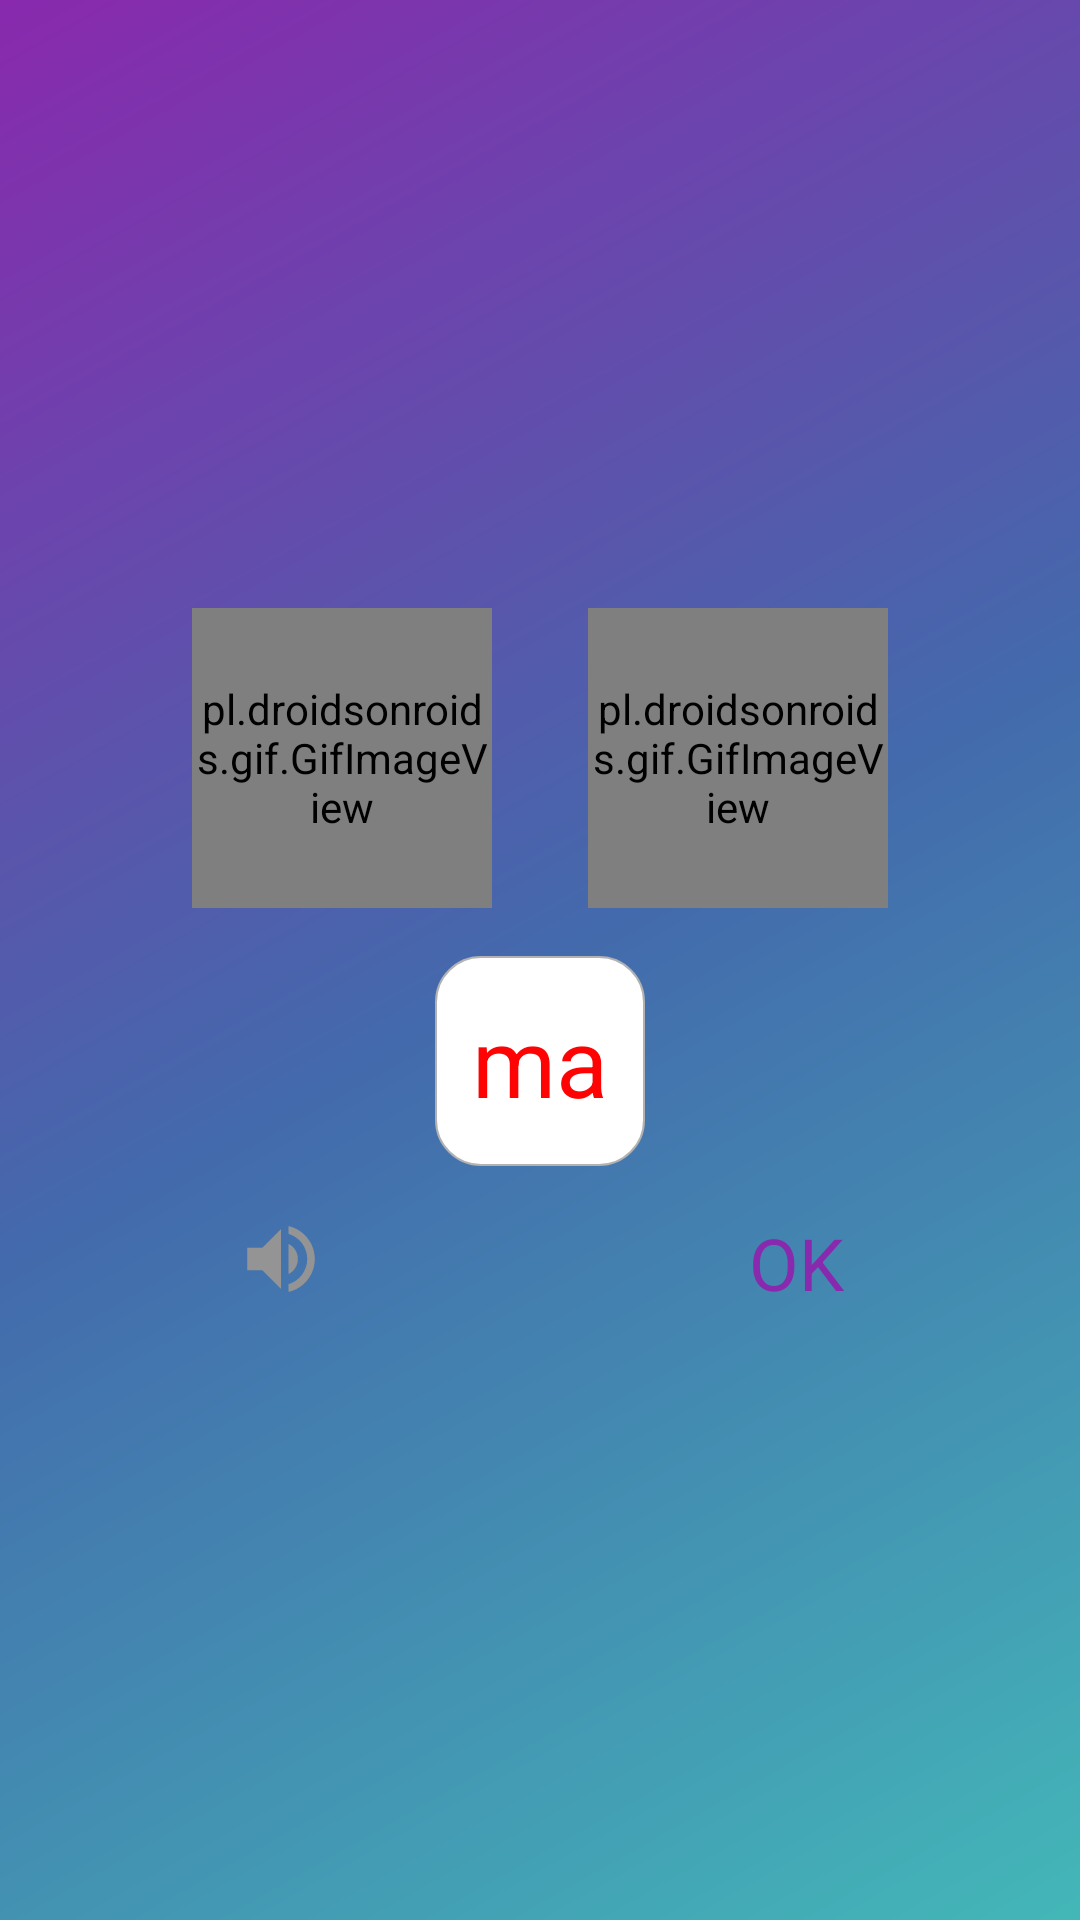

Point at icon controls on the screen. Image size 1080×1920, points as point (x, y).
volume up: point (281, 1259)
